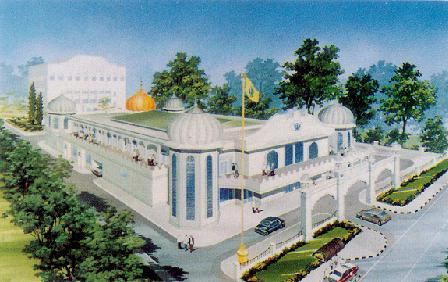Gurdwara: (33, 55, 360, 226)
